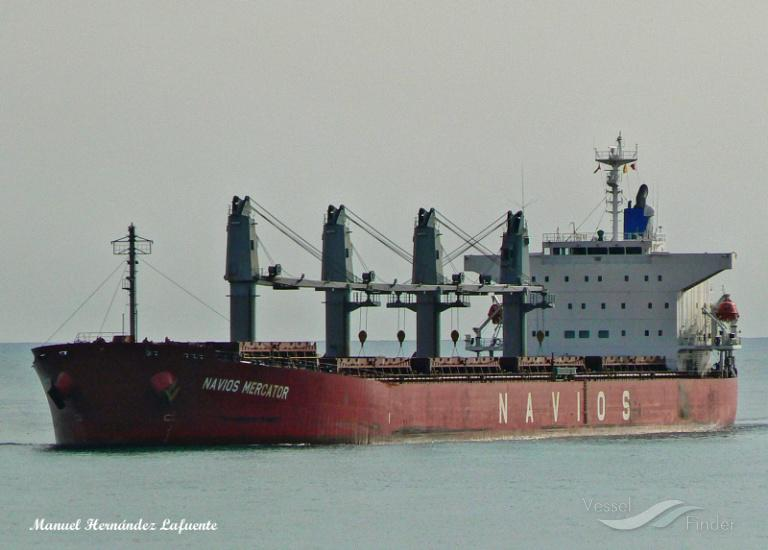OCR: (489, 383, 638, 433), (196, 370, 297, 408)
